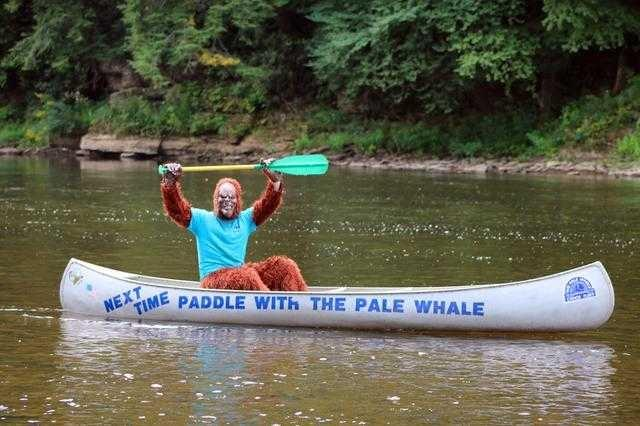kayak: (62, 257, 626, 335)
